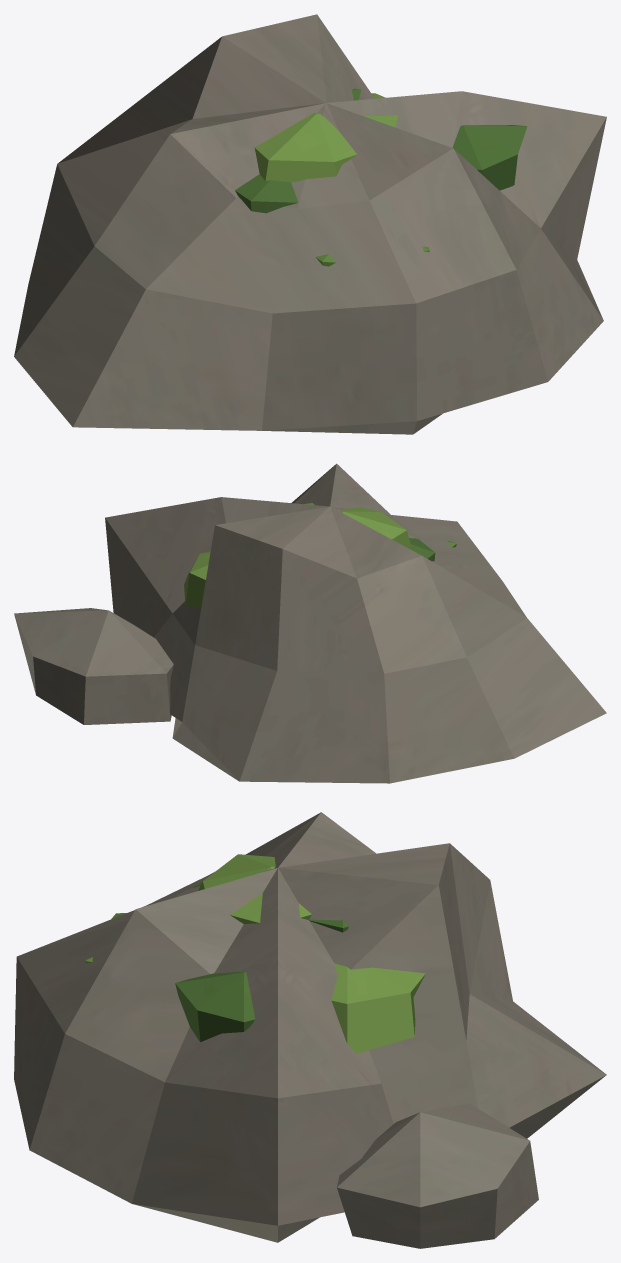
Rendered from rock_moss_01.glb.
The picture shows the model from 3 angles, top to bottom: view 1: azimuth 30°, elevation 25°; view 2: azimuth 150°, elevation 25°; view 3: azimuth 270°, elevation 25°; orthographic projection. The views are drawn at different scales.
Parts seen in each view (by area): view 1: rock_moss_01; view 2: rock_moss_01; view 3: rock_moss_01.
Part boxes in pixels (x1=…): rock_moss_01: x1=14, y1=14, x2=606, y2=434; rock_moss_01: x1=14, y1=463, x2=606, y2=783; rock_moss_01: x1=14, y1=812, x2=606, y2=1248.
Size of the model in its own units: 2.4 by 0.9928 by 1.88.
Materials: 6 (6 with a texture image).
